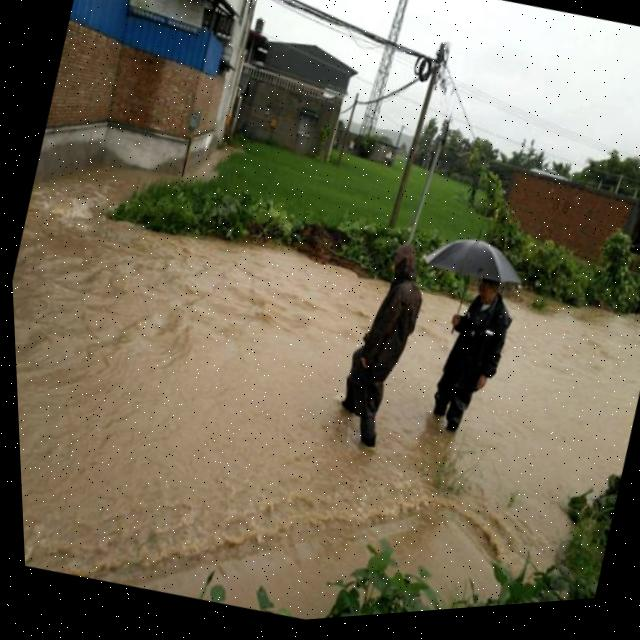civilian: (300, 220, 452, 466), (406, 256, 537, 462)
